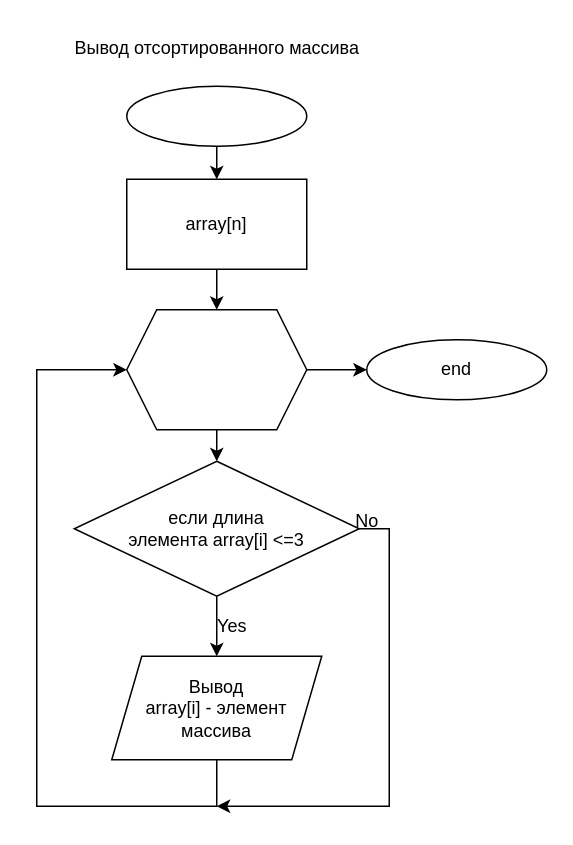
This 573x845 diagram has some shape labels left out. The shapes that lost their labels are listed below. From the top down, each one's centre as x and y in pixels, then its label:
At pixel 216 115: "start".
At pixel 216 369: "i=0, i<n,i++".
